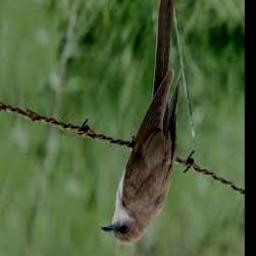Cuckoo: (100, 0, 180, 245)
